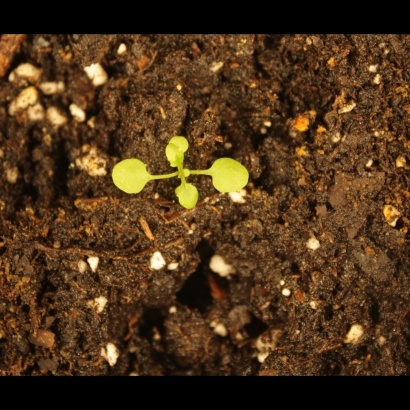leaf: (207, 151, 255, 200), (106, 156, 156, 203), (171, 179, 203, 213), (167, 129, 195, 156), (163, 142, 190, 170)
